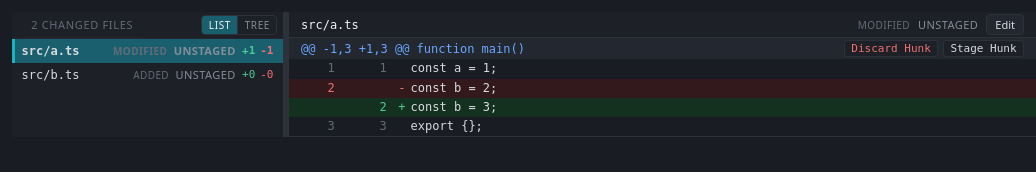
it: DiffView file selection › selects a file through the store and narrows the body to it
Click the button "src/b.ts Added Unstaged +0 -0": click(148, 75) [12,63,283,87]
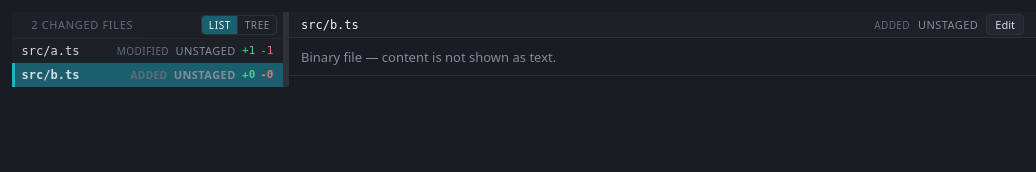
expect the text "src/b.ts" below "2 changed files" is shown: met, box [22,68,79,82]
expect the element "src/b.ts" is shown: met, box [289,12,1035,76]
